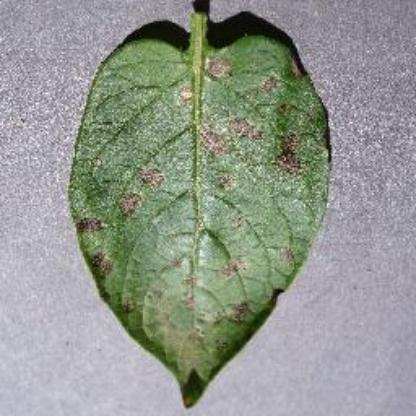Early-Blight: (68, 3, 328, 404)
